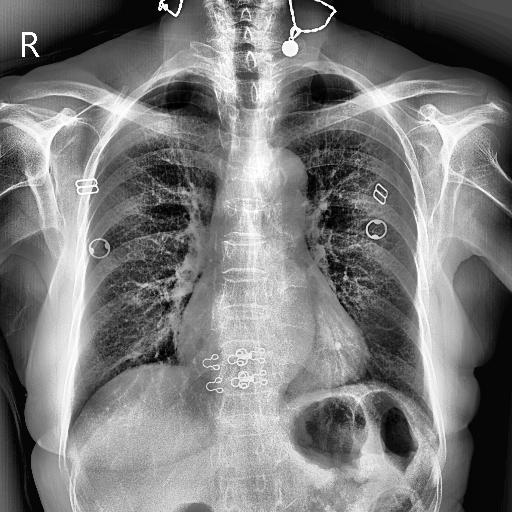0- Aortic enlargement: (250, 149, 308, 218), (256, 146, 308, 207)
11- Pleural thickening: (173, 66, 223, 84)
3- Cardiomegaly: (176, 306, 372, 385), (174, 306, 372, 384), (174, 317, 370, 379)
5- ILD: (281, 85, 419, 405), (76, 106, 212, 389)
